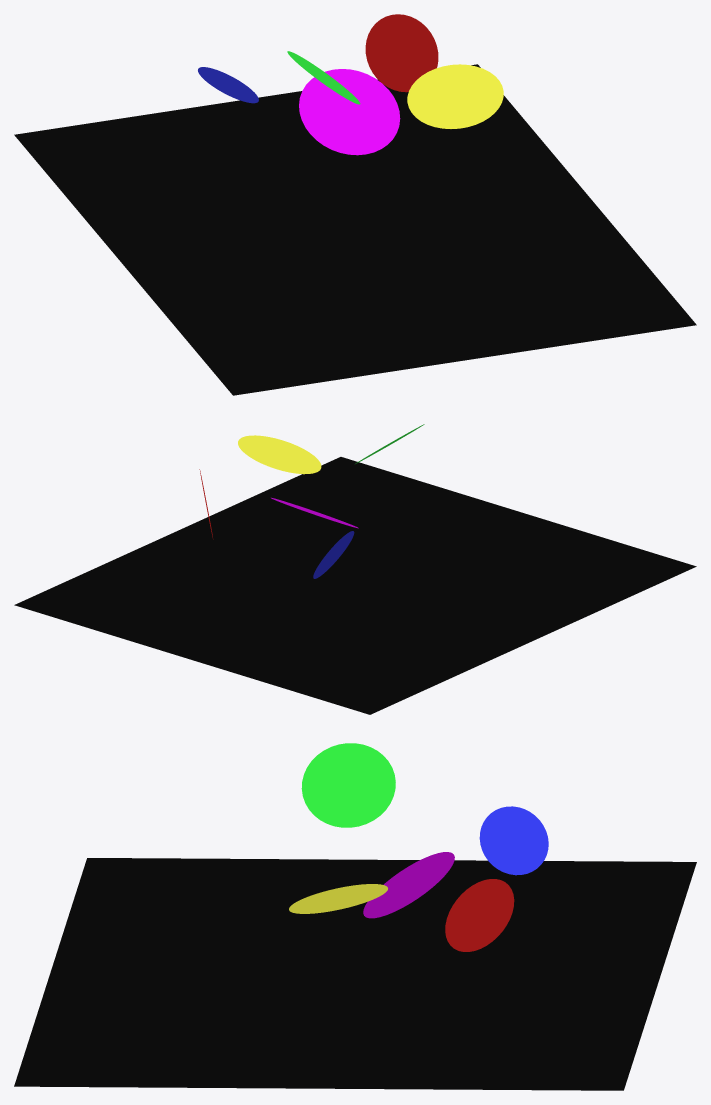
Rendered from Grosse_flache_Kreis.glb.
3 views of the same model, one above another, from view 1: azimuth 30°, elevation 25°; view 2: azimuth 150°, elevation 25°; view 3: azimuth 270°, elevation 25° (orthographic). The views are drawn at different scales.
Parts seen in each view (by area): view 1: p.0015, p.0026, p.0021, p.0022, p.0019, p.0023; view 2: p.0015, p.0021, p.0019; view 3: p.0015, p.0023, p.0019, p.0022, p.0026, p.0021.
Boxes of the visible parts, box(x1,y1,x2,y2) form: p.0015: box(14, 64, 696, 395); p.0026: box(299, 69, 400, 155); p.0021: box(407, 64, 503, 128); p.0022: box(365, 14, 438, 92); p.0019: box(198, 67, 258, 103); p.0023: box(287, 51, 360, 104); p.0015: box(14, 457, 696, 714); p.0021: box(238, 435, 321, 474); p.0019: box(313, 531, 354, 578); p.0015: box(14, 858, 696, 1090); p.0023: box(301, 743, 395, 827); p.0019: box(479, 806, 548, 875); p.0022: box(445, 879, 514, 951); p.0026: box(363, 852, 454, 918); p.0021: box(289, 884, 387, 913).
Size of the model in its own units: 0.4449 by 0.177 by 0.501.
